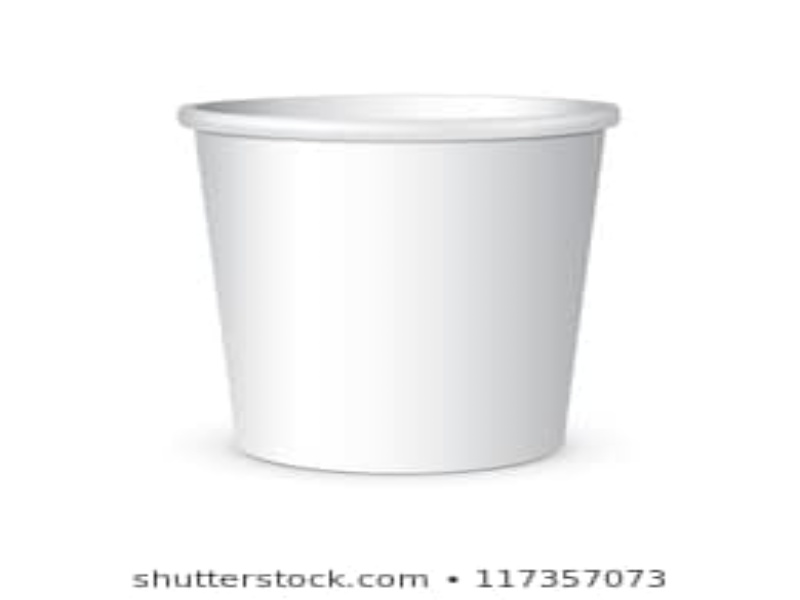yogurt-cup: (178, 88, 627, 476)
